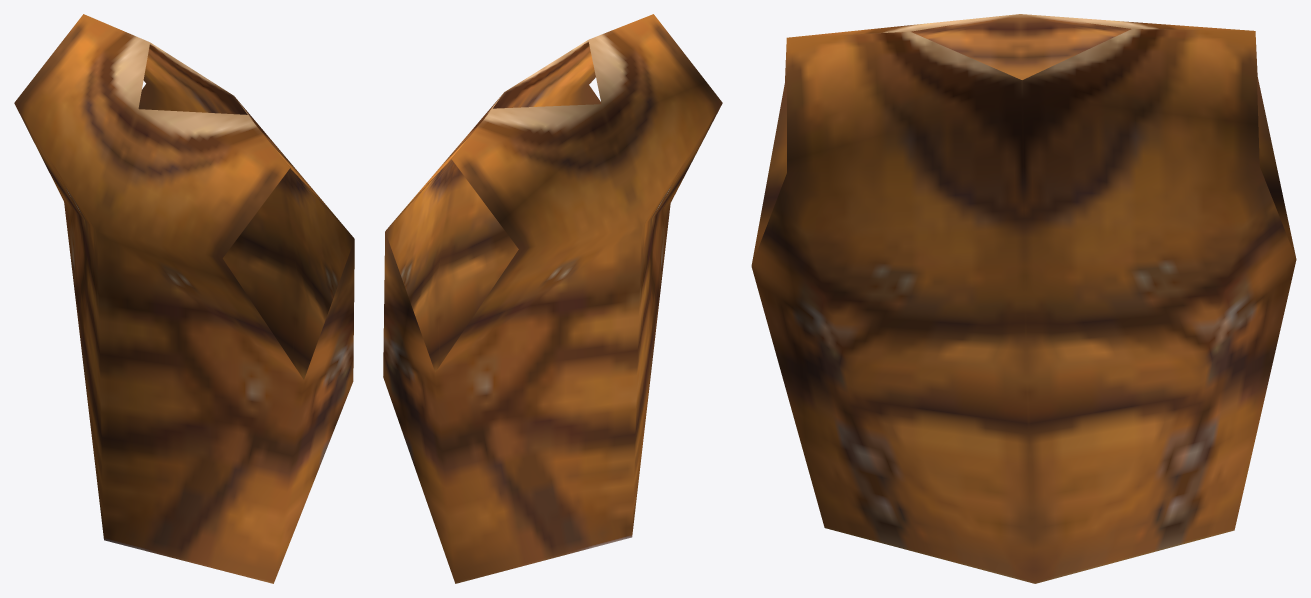
Rendered from armorleathershirtorange.obj.
3 views of the same model, side by side, from view 1: azimuth 30°, elevation 25°; view 2: azimuth 150°, elevation 25°; view 3: azimuth 270°, elevation 25° (orthographic). The views are drawn at different scales.
Visible parts, largest first — view 1: armorleathershirtorange.m2; view 2: armorleathershirtorange.m2; view 3: armorleathershirtorange.m2.
Part boxes in pixels (bbox=[...]): armorleathershirtorange.m2: bbox=[14, 14, 354, 583]; armorleathershirtorange.m2: bbox=[383, 14, 722, 583]; armorleathershirtorange.m2: bbox=[751, 14, 1296, 583].
Size of the model in its own units: 0.2939 by 0.6098 by 0.5956.
1 material, 1 textured.
